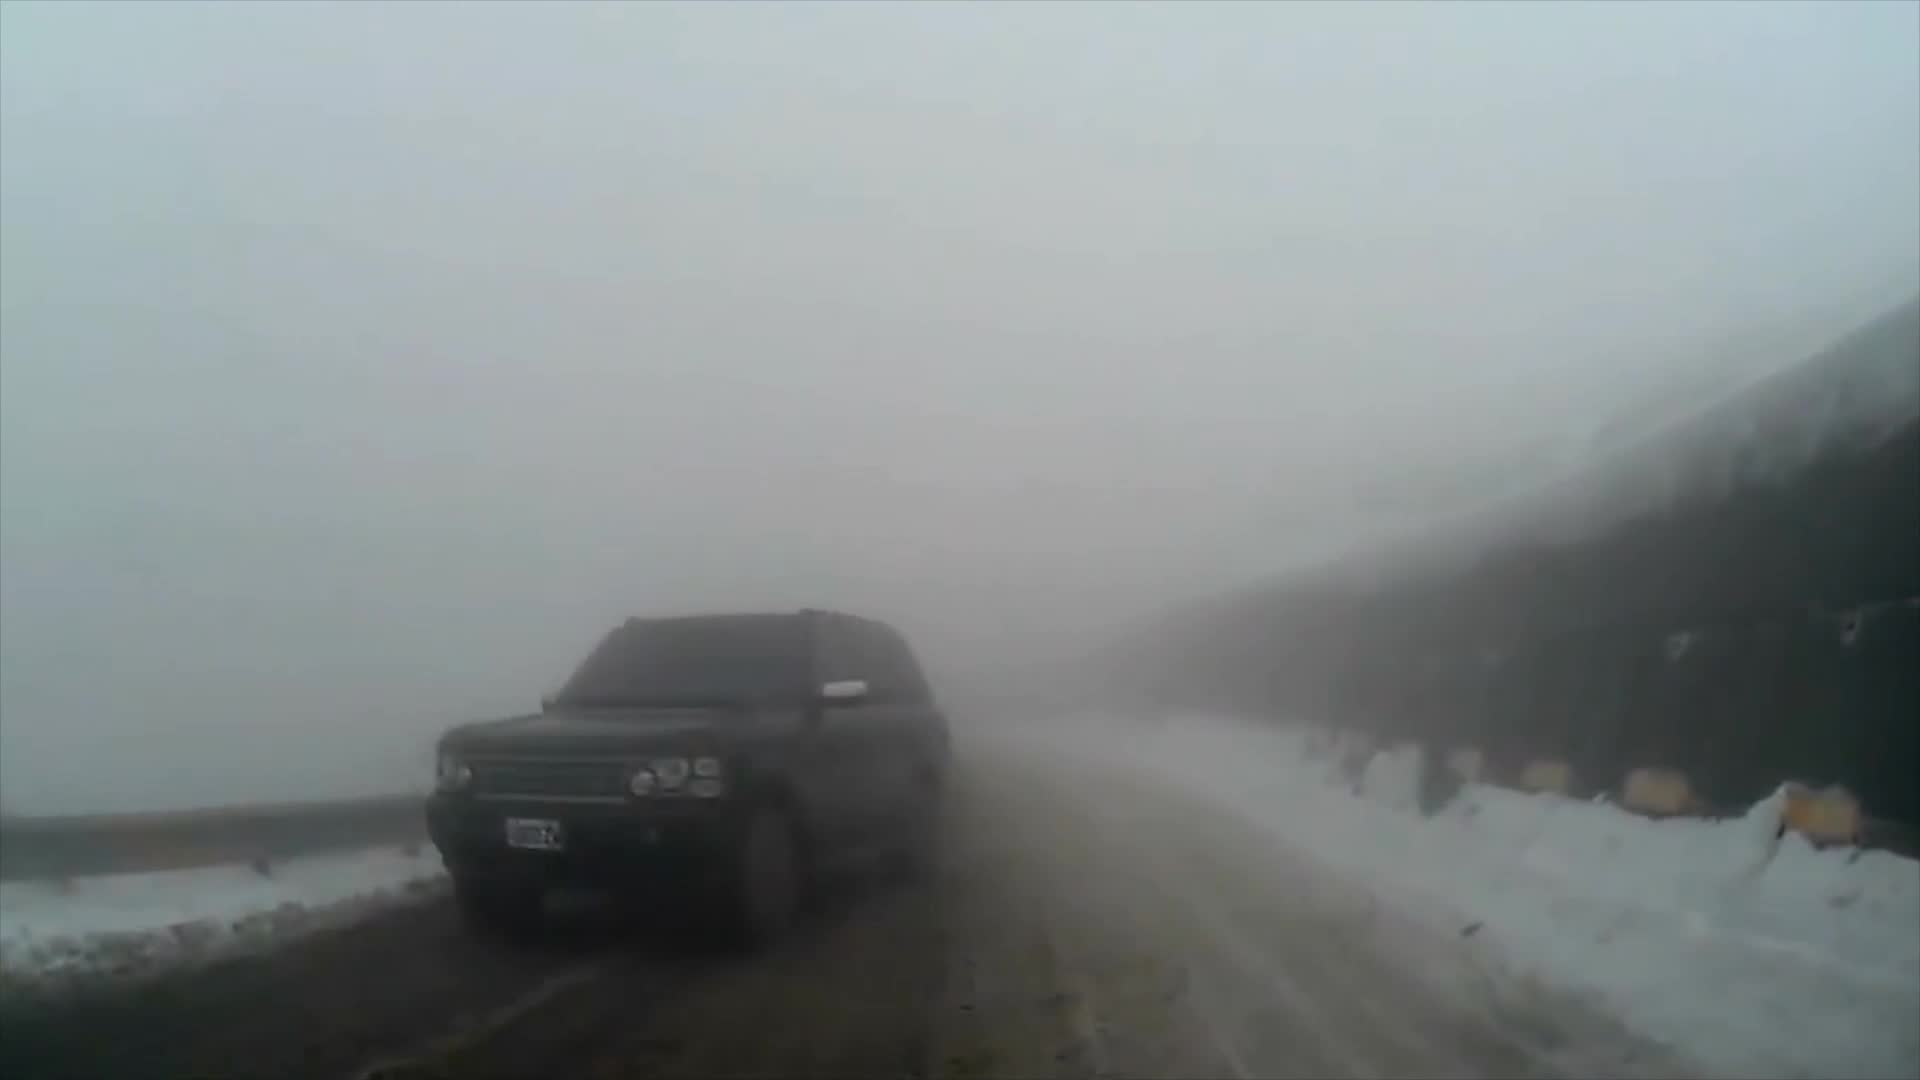vehicle: (419, 604, 978, 967)
